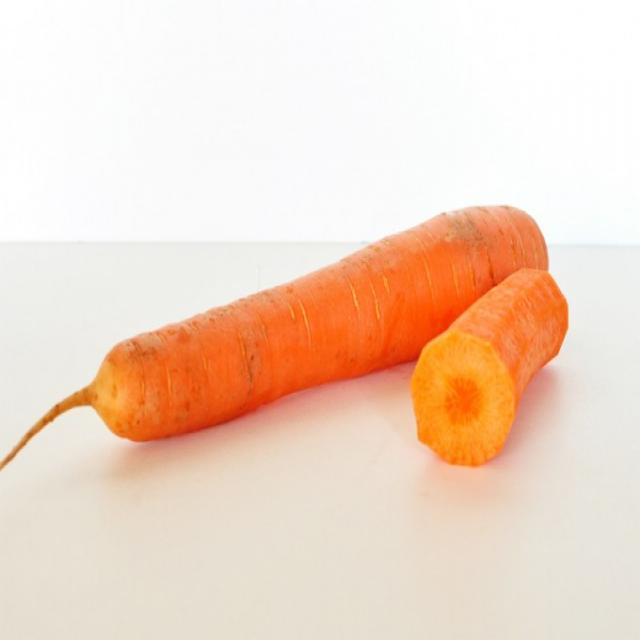Carrot: (100, 203, 550, 449), (412, 266, 562, 468)
